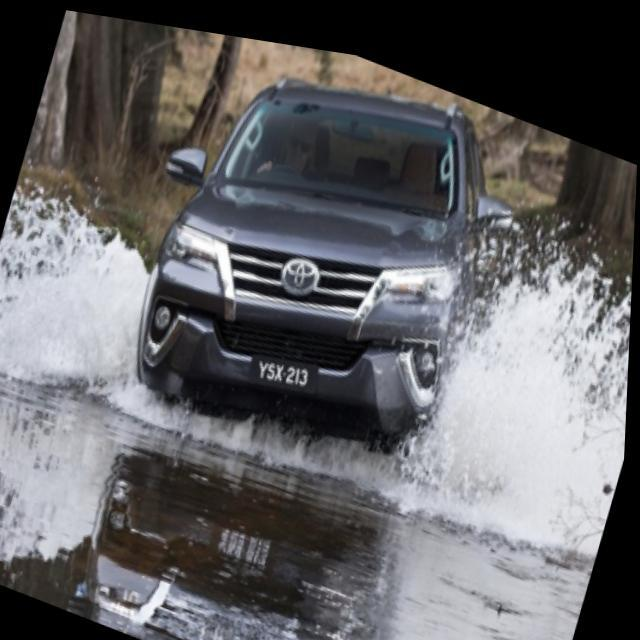license_plate: (246, 340, 317, 392)
